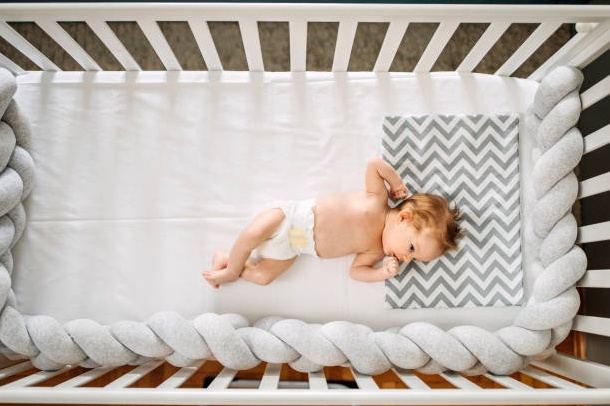baby: (202, 158, 461, 286)
crib: (0, 3, 609, 295)
